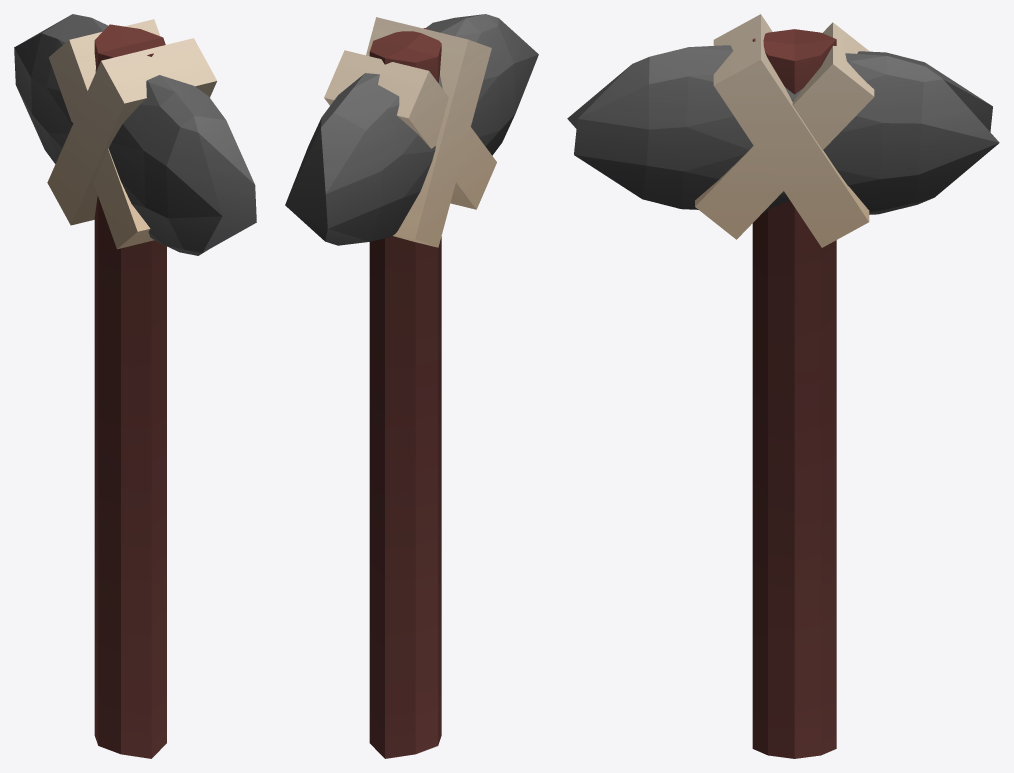
The model's file is GuanesNemequeneMartillo.fbx.
The picture shows the model from 3 angles, left to right: view 1: azimuth 30°, elevation 25°; view 2: azimuth 150°, elevation 25°; view 3: azimuth 270°, elevation 25°; orthographic projection.
Visible parts, largest first — view 1: MartilloNemequene; view 2: MartilloNemequene; view 3: MartilloNemequene.
Boxes of the visible parts, bbox=[...] form: MartilloNemequene: bbox=[14, 14, 256, 758]; MartilloNemequene: bbox=[285, 14, 538, 758]; MartilloNemequene: bbox=[567, 14, 999, 758].
Bounding box in the file's own units: 20.01 × 146 × 80.15.
Materials: 1 (1 with a texture image).
